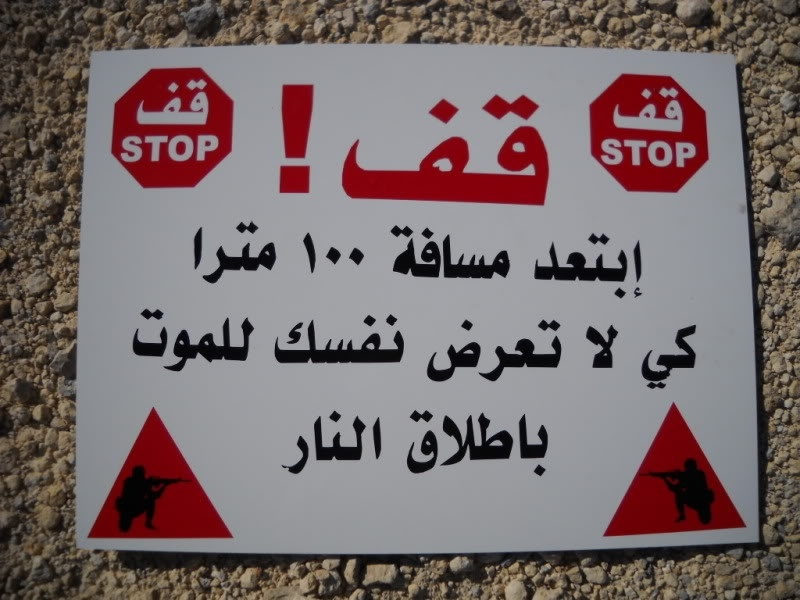text: (353, 78, 368, 211), (369, 78, 384, 211), (385, 78, 400, 211), (401, 78, 416, 211), (417, 78, 432, 211), (433, 78, 448, 211), (449, 78, 464, 211), (465, 78, 480, 211), (481, 78, 496, 211), (497, 78, 512, 211), (513, 78, 528, 211), (529, 78, 544, 211), (289, 79, 304, 197), (305, 79, 316, 197), (545, 78, 554, 211), (241, 307, 257, 376), (369, 409, 385, 477), (657, 324, 672, 395), (673, 324, 688, 395), (344, 78, 352, 211), (279, 79, 288, 197), (417, 408, 432, 478), (433, 408, 448, 478), (449, 408, 464, 478), (465, 408, 480, 478), (481, 408, 496, 478), (497, 408, 512, 478), (513, 408, 528, 478), (529, 408, 544, 478), (545, 233, 560, 302), (561, 233, 576, 302), (577, 233, 592, 302), (593, 233, 608, 302), (609, 233, 624, 302), (625, 233, 640, 302), (145, 307, 160, 376), (161, 307, 176, 376), (177, 307, 192, 376), (193, 307, 208, 376), (209, 307, 224, 376), (225, 307, 240, 376), (289, 409, 304, 477), (305, 409, 320, 477), (321, 409, 336, 477), (337, 409, 352, 477), (353, 409, 368, 477), (193, 220, 208, 286), (209, 220, 224, 286), (225, 220, 240, 286), (241, 220, 256, 286), (257, 220, 272, 286), (433, 319, 448, 384), (449, 319, 464, 384), (465, 319, 480, 384), (481, 319, 496, 384), (497, 319, 512, 384), (513, 319, 528, 384), (529, 319, 544, 384), (545, 319, 560, 384), (401, 219, 416, 282), (417, 219, 432, 282), (433, 219, 448, 282), (449, 219, 464, 282), (465, 219, 480, 282), (481, 219, 496, 282), (497, 219, 512, 282), (289, 313, 304, 367), (305, 313, 320, 367), (321, 313, 336, 367), (337, 313, 352, 367), (353, 313, 368, 367), (369, 313, 384, 367), (385, 313, 400, 367), (645, 324, 656, 395), (145, 76, 160, 127), (161, 76, 176, 127), (177, 76, 192, 127), (193, 76, 208, 127), (133, 307, 144, 376), (625, 86, 640, 135), (641, 86, 656, 135), (657, 86, 672, 135), (689, 324, 699, 395), (593, 324, 608, 371), (275, 313, 288, 367), (406, 408, 416, 478), (389, 219, 400, 282), (305, 231, 320, 275), (321, 231, 336, 275), (337, 231, 352, 275), (673, 86, 686, 135), (535, 233, 544, 302), (353, 231, 367, 275), (613, 86, 624, 135), (609, 138, 624, 170), (625, 138, 640, 170), (641, 138, 656, 170), (657, 138, 672, 170), (673, 138, 688, 170), (609, 324, 619, 371), (129, 134, 144, 164), (145, 134, 160, 164), (161, 134, 176, 164), (177, 134, 192, 164), (193, 134, 208, 164), (282, 409, 288, 477), (209, 134, 220, 164), (273, 220, 278, 286), (599, 138, 608, 170), (689, 138, 698, 170), (545, 408, 549, 478), (561, 319, 565, 384), (120, 134, 128, 164), (587, 324, 592, 371), (401, 313, 405, 367), (641, 233, 644, 302), (140, 76, 144, 127), (429, 319, 432, 384), (300, 231, 304, 275), (513, 219, 515, 282), (209, 76, 211, 127)
